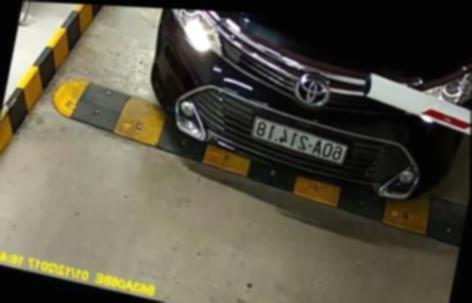License_Plate: (249, 120, 352, 167)
